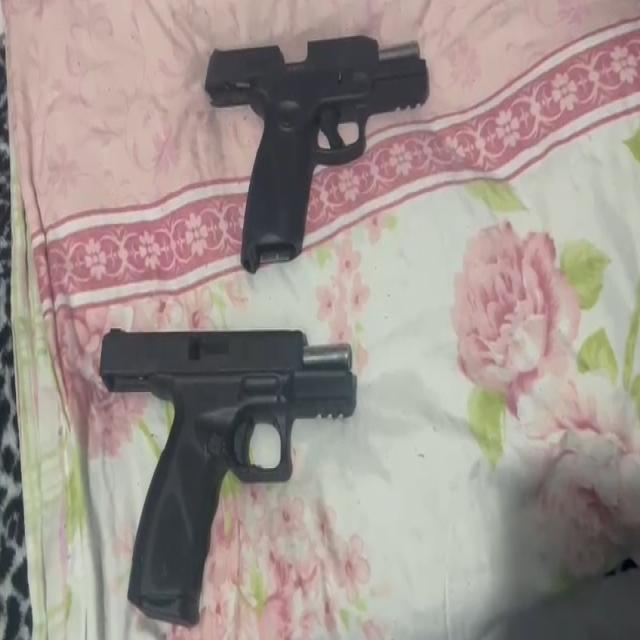gun: (96, 319, 364, 631), (204, 29, 432, 274)
